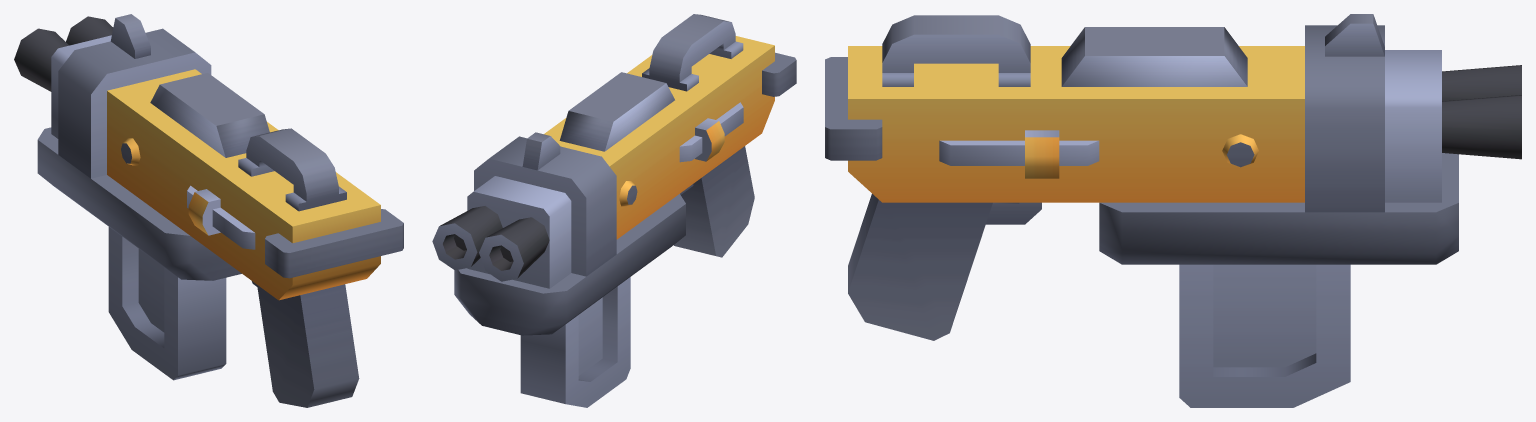
The model's file is blaster-j.glb.
3 renders of one model, left to right at view 1: azimuth 30°, elevation 25°; view 2: azimuth 150°, elevation 25°; view 3: azimuth 270°, elevation 25°, orthographic. The views are drawn at different scales.
Visible parts, largest first — view 1: blaster-j, magazine; view 2: blaster-j, magazine; view 3: blaster-j, magazine.
Part boxes in pixels (box(x1,y1,x2,y2)): blaster-j: box(14, 14, 403, 407); magazine: box(108, 227, 226, 380); blaster-j: box(432, 14, 796, 335); magazine: box(520, 277, 630, 407); blaster-j: box(825, 14, 1521, 340); magazine: box(1179, 264, 1350, 407).
Bounding box in the file's own units: 0.155 × 0.3619 × 0.61.
Materials: 1 (1 with a texture image).
